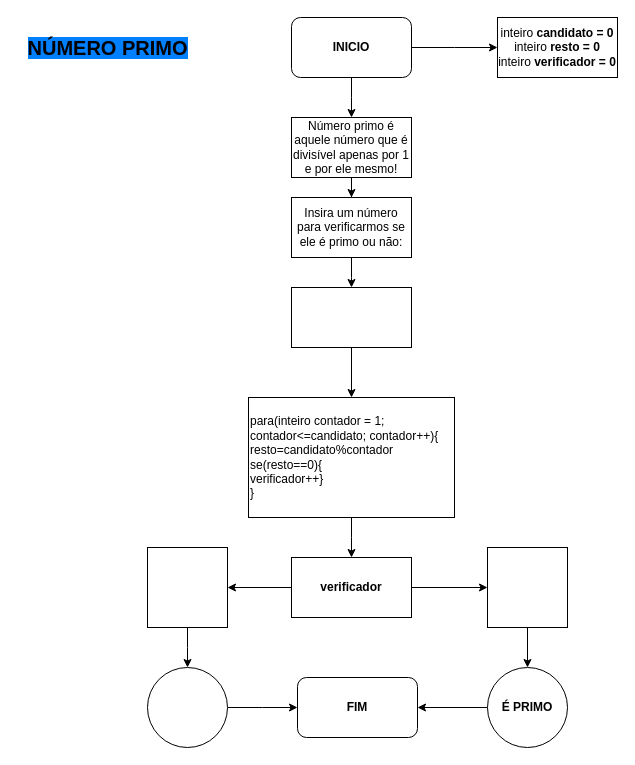
The diagram is 635 pixels wide and 765 high, and some of its shapes have lost their labels. The shapes that lost their labels are listed below. From the top down, each one's box as (x1, y1, x2, y2) in pixels, then its label:
(290, 286, 412, 348): candidato <- entrada
(146, 546, 228, 628): verificador>2
(486, 546, 568, 628): verificador==2
(146, 666, 228, 748): NÃO É PRIMO
